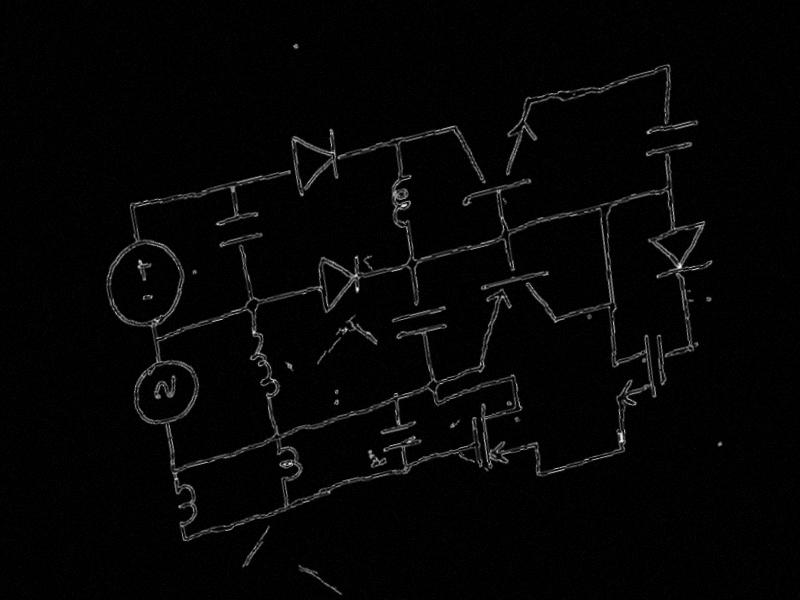capacitor: (632, 105, 710, 170), (380, 285, 456, 350), (208, 198, 274, 267), (373, 408, 429, 464)
diode: (265, 117, 363, 207), (635, 207, 727, 293), (296, 241, 380, 321)
inductor: (235, 316, 291, 416), (377, 160, 430, 245), (163, 473, 206, 538), (267, 437, 311, 497)
signal: (122, 345, 212, 441)
voltage: (91, 216, 199, 344)
